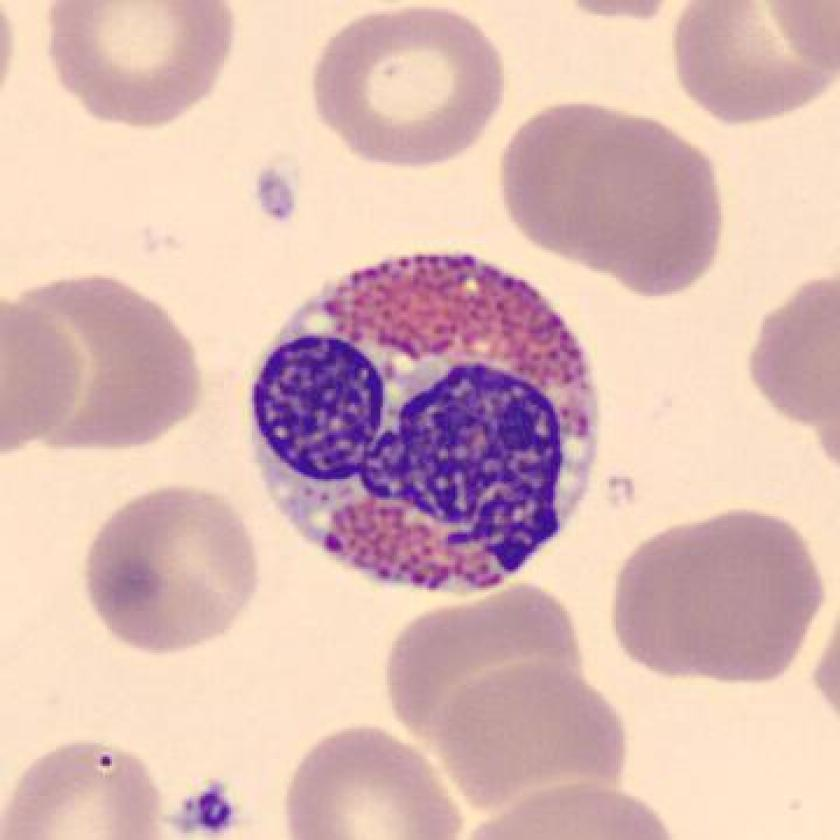eosinophil: (232, 242, 619, 610)
